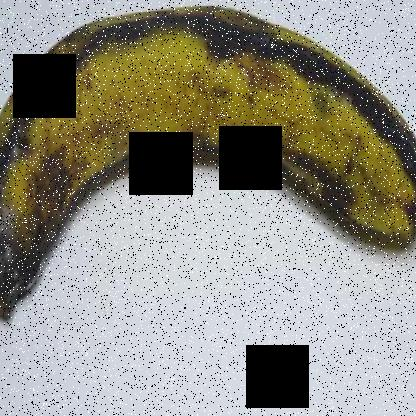overripe: (1, 2, 415, 349)
rotten: (1, 183, 60, 347)
